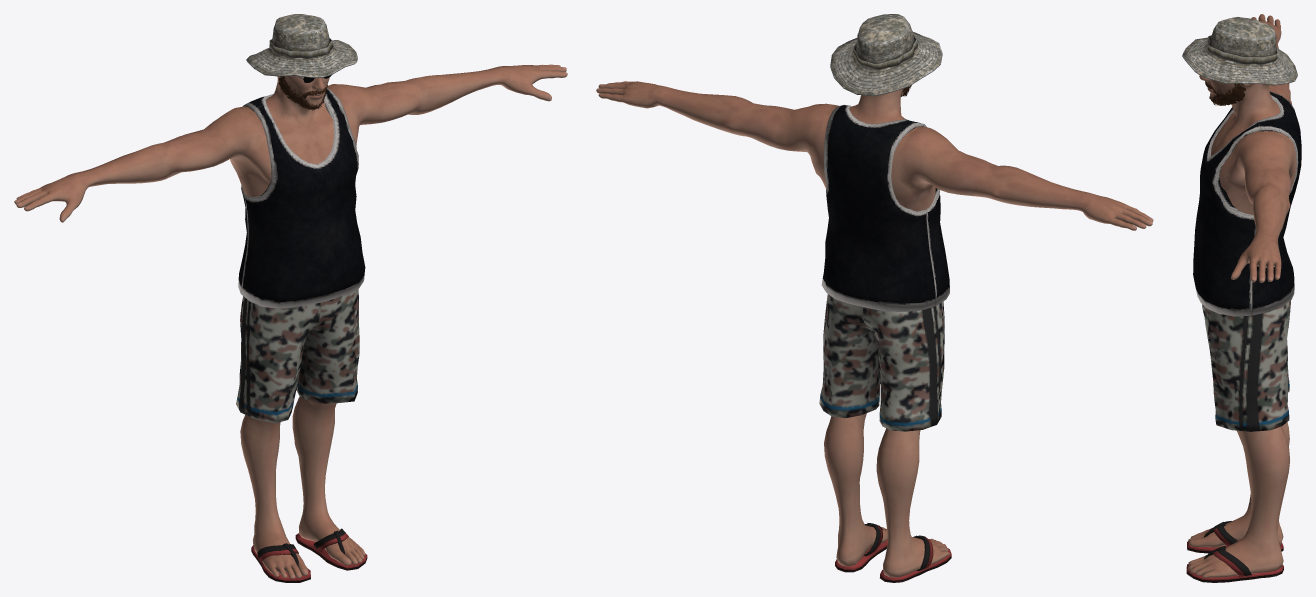
3 renders of one model, left to right at view 1: azimuth 30°, elevation 25°; view 2: azimuth 150°, elevation 25°; view 3: azimuth 270°, elevation 25°, orthographic.
Parts seen in each view (by area): view 1: Body, Tops, Bottoms, Hats, Shoes; view 2: Body, Tops, Bottoms, Hats, Shoes; view 3: Body, Tops, Bottoms, Hats, Shoes, Beards.
Part boxes in pixels (box(x1,y1,x2,y2)): Body: box(14, 64, 567, 578); Tops: box(238, 88, 365, 308); Bottoms: box(236, 289, 359, 423); Hats: box(246, 14, 357, 77); Shoes: box(251, 528, 367, 582); Body: box(596, 81, 1153, 577); Tops: box(821, 104, 949, 311); Bottoms: box(819, 294, 944, 431); Hats: box(830, 14, 942, 96); Shoes: box(835, 523, 951, 582); Body: box(1188, 14, 1296, 577); Tops: box(1193, 91, 1301, 316); Bottoms: box(1202, 300, 1290, 431); Hats: box(1182, 17, 1297, 85); Shoes: box(1186, 521, 1283, 582); Beards: box(1209, 83, 1245, 105).
Bounding box in the file's own units: 194 × 181 × 36.5.
1 material, 1 textured.
